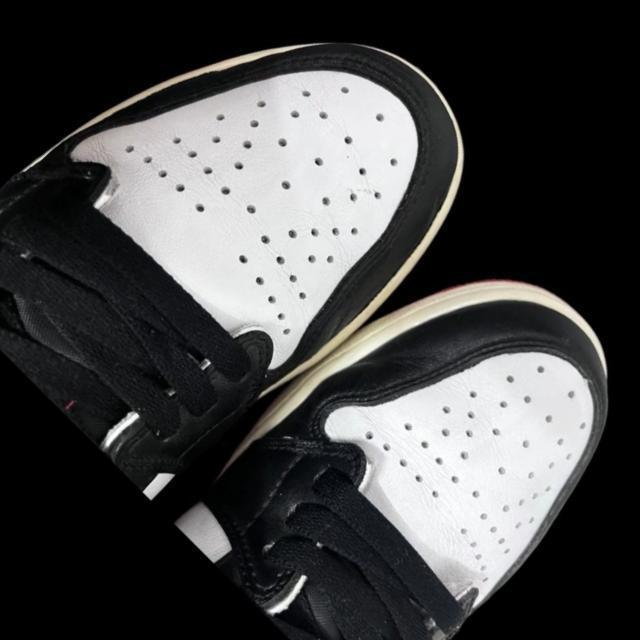nike original jordan 1: (0, 0, 519, 516), (159, 198, 640, 640)
